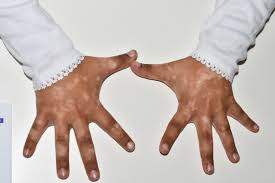vitiligo: (15, 42, 264, 179)
